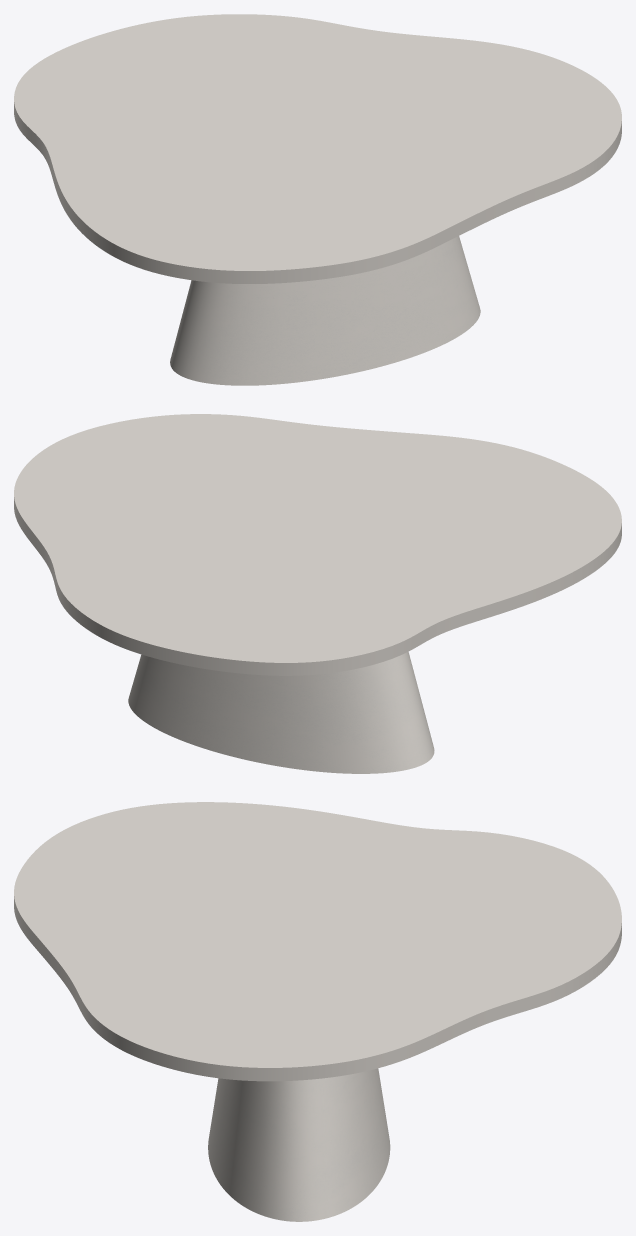
File: pearlwhite_topone_standard_eqone.glb
3 views of the same model, one above another, from view 1: azimuth 30°, elevation 25°; view 2: azimuth 150°, elevation 25°; view 3: azimuth 270°, elevation 25° (orthographic). The views are drawn at different scales.
Visible parts, largest first — view 1: standard_topone, eqone; view 2: standard_topone, eqone; view 3: standard_topone, eqone.
Part boxes in pixels (<box>): standard_topone: <box>14,14,621,283</box>; eqone: <box>170,236,480,385</box>; standard_topone: <box>14,414,621,675</box>; eqone: <box>128,651,434,773</box>; standard_topone: <box>14,802,621,1081</box>; eqone: <box>208,1068,390,1221</box>.
Size of the model in its own units: 6.83 by 2.5 by 6.6.
Materials: 1 (1 with a texture image).
